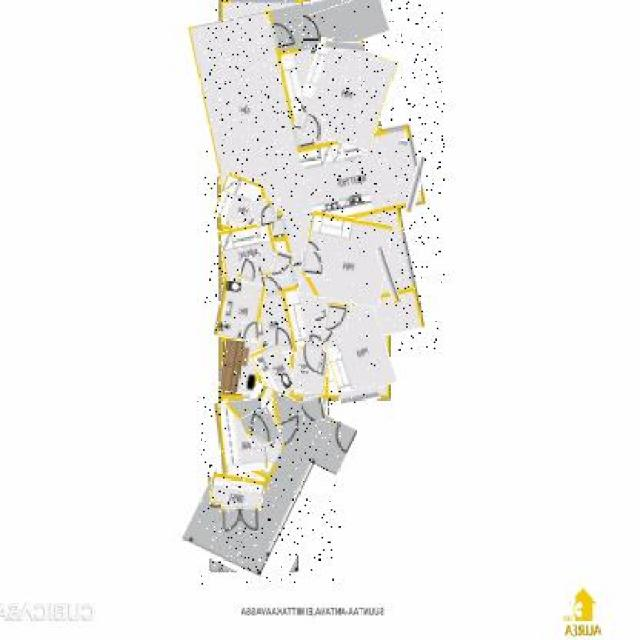door: (243, 409, 280, 446), (220, 505, 258, 532), (300, 115, 328, 140), (300, 343, 323, 372), (325, 305, 349, 332), (302, 396, 326, 422), (302, 251, 324, 277), (255, 200, 277, 225), (305, 15, 323, 43), (272, 252, 291, 278), (238, 258, 258, 280), (242, 322, 258, 342), (275, 328, 291, 346)
window: (380, 246, 395, 303), (409, 156, 423, 212), (340, 388, 380, 403), (325, 40, 363, 51), (243, 392, 255, 400), (271, 392, 283, 400), (398, 140, 408, 146)
zone: (205, 0, 444, 351), (197, 390, 340, 584), (301, 43, 394, 146), (302, 216, 389, 304), (322, 304, 392, 396), (303, 0, 388, 48), (212, 400, 266, 474), (218, 176, 280, 230), (220, 225, 277, 280), (217, 280, 263, 340), (222, 341, 262, 394), (256, 344, 296, 394), (209, 476, 265, 510), (292, 348, 328, 394)
